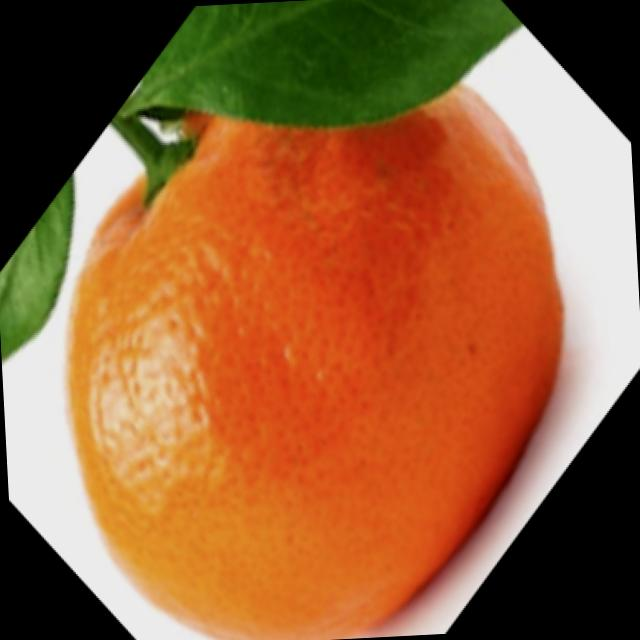pineapple: (54, 29, 590, 640)
